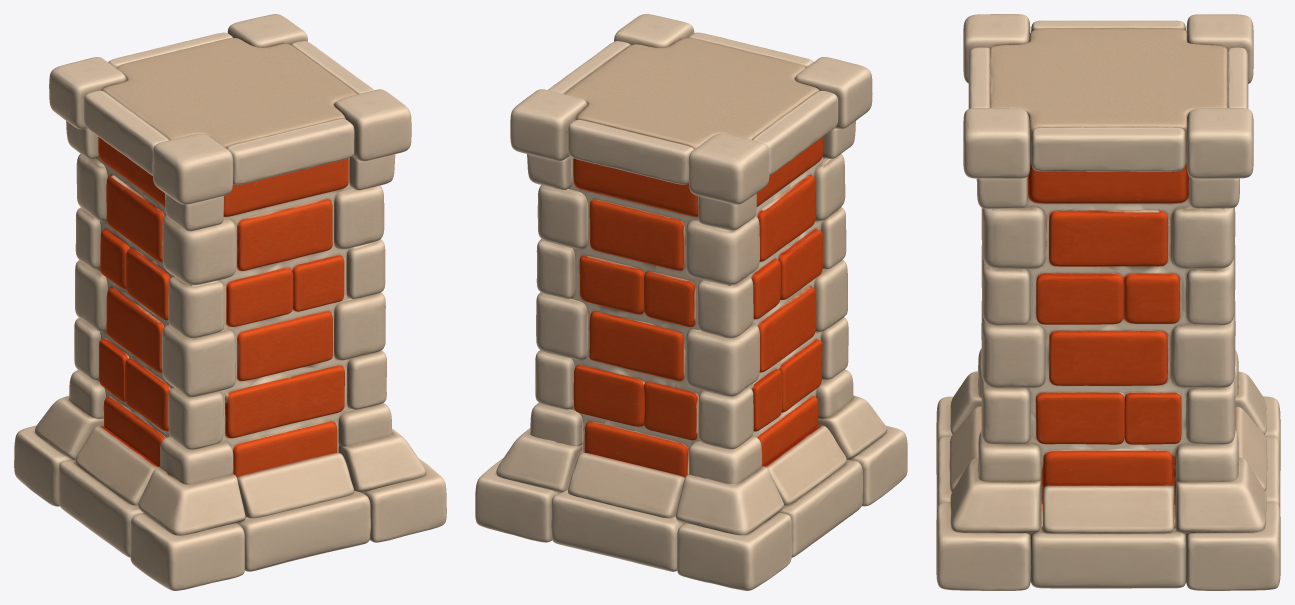
Rendered from Meshy_AI_roofline_support_colu_1024085025_image-to-3d-texture.glb.
The picture shows the model from 3 angles, left to right: view 1: azimuth 30°, elevation 25°; view 2: azimuth 150°, elevation 25°; view 3: azimuth 270°, elevation 25°; orthographic projection. The views are drawn at different scales.
Size of the model in its own units: 1.33 by 1.9 by 1.33.
1 material, 1 textured.
